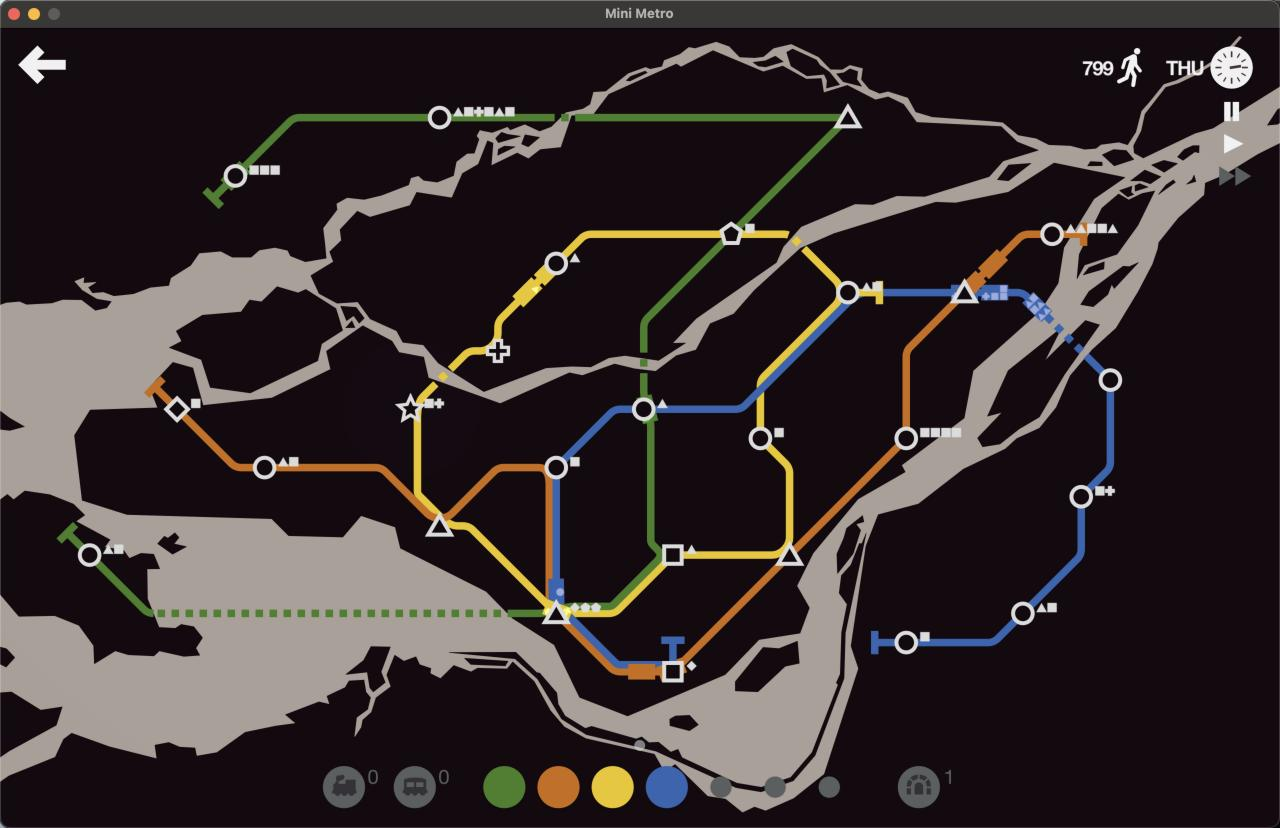CIRCLE: (222, 162, 248, 189), (77, 542, 103, 567), (631, 396, 656, 422), (252, 455, 277, 480), (427, 105, 452, 130), (894, 631, 919, 656), (1069, 484, 1094, 509), (835, 280, 860, 305), (1011, 601, 1036, 626), (544, 455, 569, 480), (894, 426, 919, 451), (748, 426, 773, 451), (544, 250, 569, 275), (1098, 368, 1123, 392), (1041, 222, 1064, 246)
CROSS: (486, 338, 511, 363)
GEM: (163, 395, 192, 423)
PENTAGON: (719, 222, 743, 246)
SQUARE: (661, 543, 685, 567), (661, 661, 684, 683)
STAR: (395, 394, 423, 422)
TRIANGLE: (951, 277, 980, 304), (425, 512, 455, 538), (834, 103, 862, 130), (775, 542, 805, 567), (543, 602, 571, 625)
